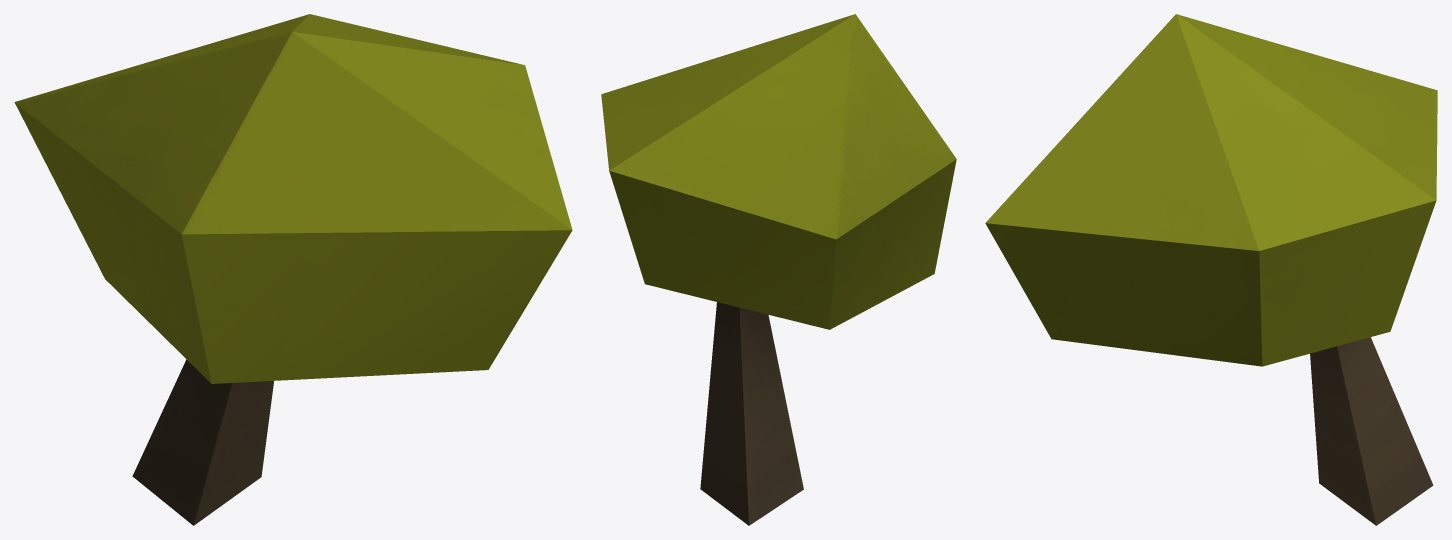
Rendered from Leave_tree_C3_03.FBX.
3 renders of one model, left to right at view 1: azimuth 30°, elevation 25°; view 2: azimuth 150°, elevation 25°; view 3: azimuth 270°, elevation 25°, orthographic. The views are drawn at different scales.
Parts seen in each view (by area): view 1: Leave_tree_C3_03; view 2: Leave_tree_C3_03; view 3: Leave_tree_C3_03.
Boxes of the visible parts, box(x1,y1,x2,y2) form: Leave_tree_C3_03: box(14, 14, 572, 525); Leave_tree_C3_03: box(601, 14, 956, 525); Leave_tree_C3_03: box(985, 14, 1437, 525).
Bounding box in the file's own units: 22.9 × 25.47 × 29.57.
